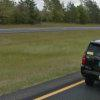Tree: (30, 0, 100, 21)
